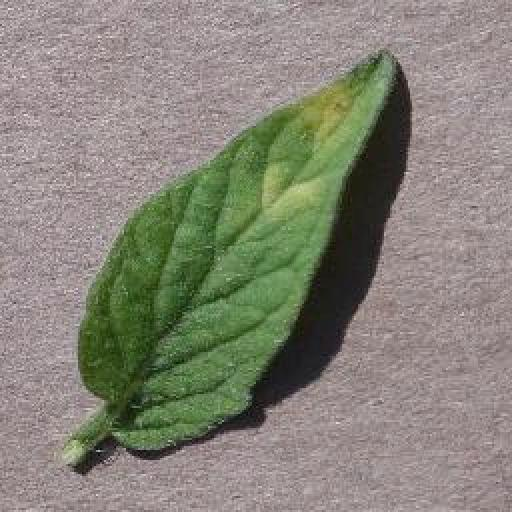disease_tomato: (78, 50, 402, 452)
